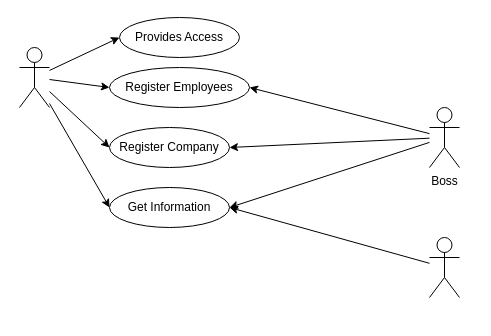
This 491x336 diagram has some shape labels left out. Here are the shapes that lost their labels. From the top down, the box of each, then its label:
(18, 46, 50, 108): Admin
(428, 236, 460, 298): Employees
